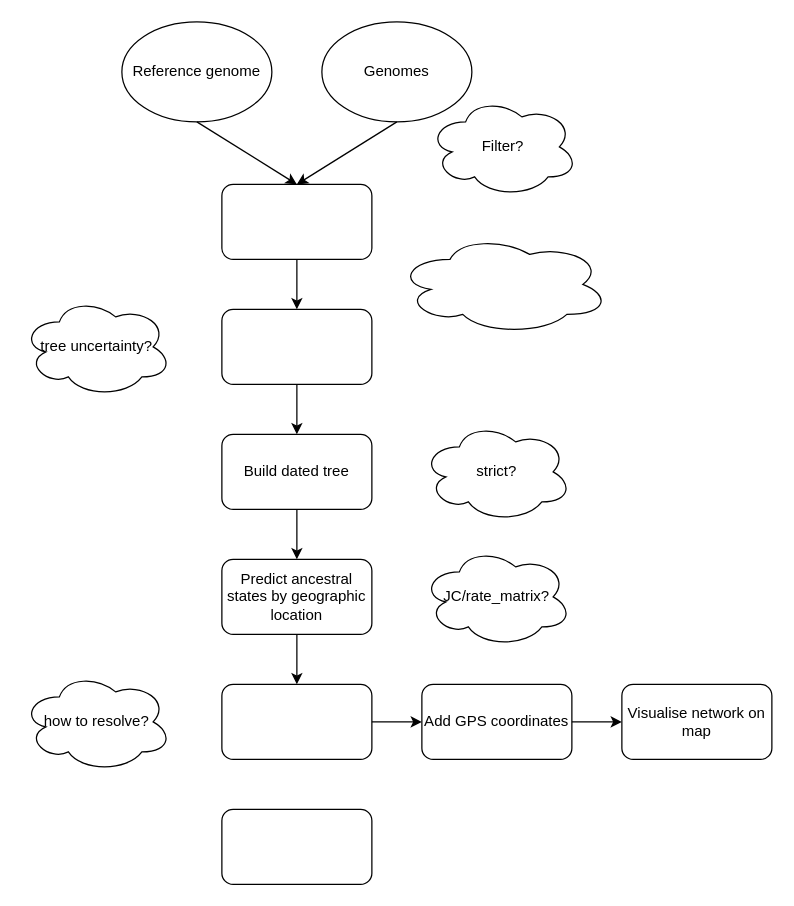
This 794x906 diagram has some shape labels left out. Here are the shapes that lost their labels. From the top down, the box of each, then its label:
(221, 183, 372, 259): Prepare pseudo-whole genomes
(396, 233, 609, 334): predict and mask recombination sites before Gubbins?
(221, 308, 372, 384): Build tree and mask recombinations
(221, 683, 372, 759): Build connection network, resolve ambiguities
(221, 808, 372, 884): Build new rate matrix for future predictions
